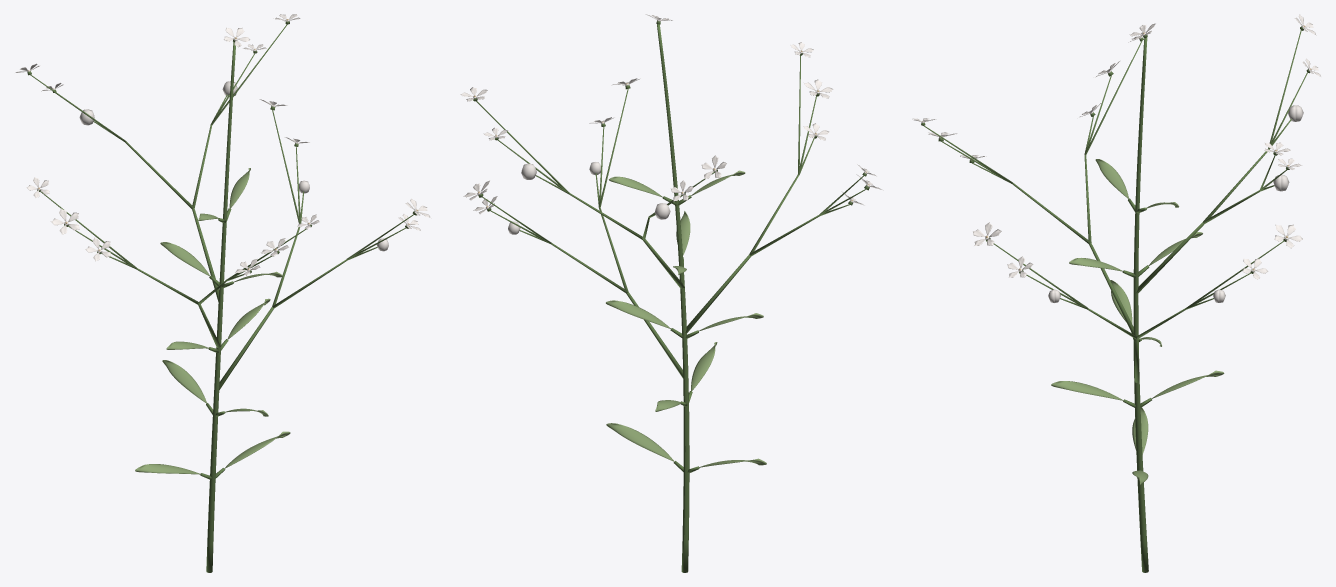
File: gypsophila-common-v2.glb
3 views of the same model, side by side, from view 1: azimuth 30°, elevation 25°; view 2: azimuth 150°, elevation 25°; view 3: azimuth 270°, elevation 25° (orthographic). The views are drawn at different scales.
Visible parts, largest first — view 1: gypsophila-common-v2-stem, gypsophila-common-v2-leaf, gypsophila-common-v2-petal; view 2: gypsophila-common-v2-stem, gypsophila-common-v2-leaf, gypsophila-common-v2-petal; view 3: gypsophila-common-v2-stem, gypsophila-common-v2-leaf, gypsophila-common-v2-petal.
Boxes of the visible parts, <box> form: gypsophila-common-v2-stem: <box>27,21,416,572</box>; gypsophila-common-v2-leaf: <box>135,168,290,474</box>; gypsophila-common-v2-petal: <box>15,14,431,275</box>; gypsophila-common-v2-stem: <box>473,20,869,572</box>; gypsophila-common-v2-leaf: <box>606,170,766,467</box>; gypsophila-common-v2-petal: <box>460,14,883,234</box>; gypsophila-common-v2-stem: <box>921,26,1310,572</box>; gypsophila-common-v2-leaf: <box>1051,159,1224,485</box>; gypsophila-common-v2-petal: <box>912,14,1320,302</box>.
Size of the model in its own units: 1.07 by 1.62 by 1.08.
